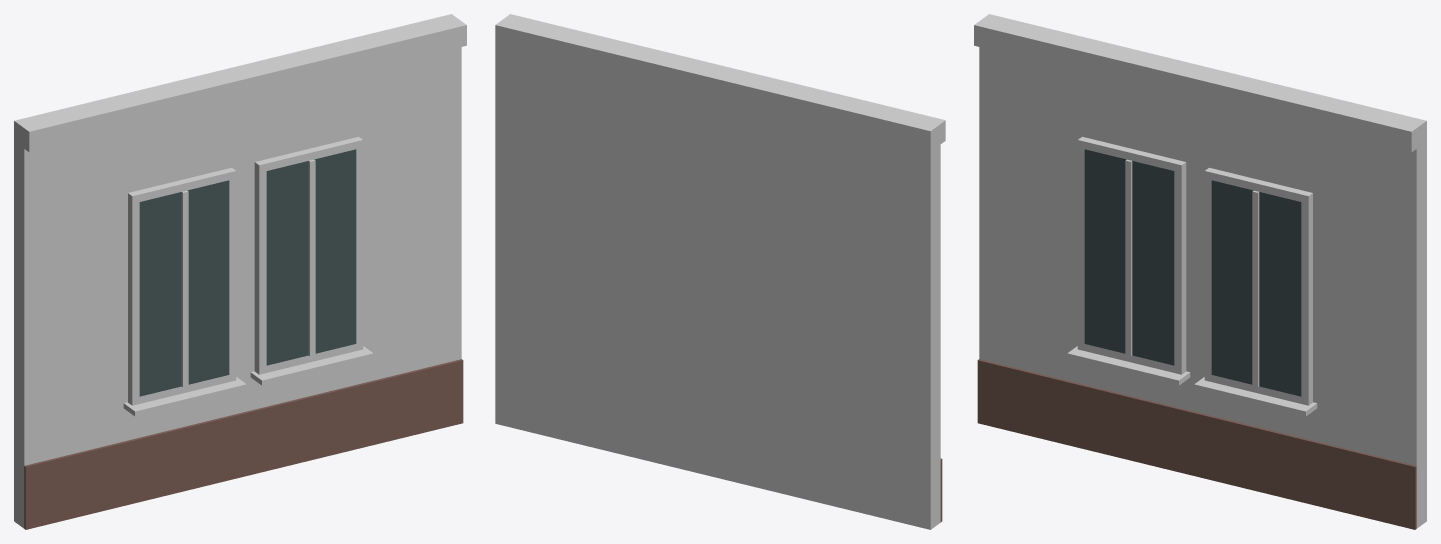
Rendered from mid-w1.fbx.
3 renders of one model, left to right at view 1: azimuth 30°, elevation 25°; view 2: azimuth 150°, elevation 25°; view 3: azimuth 330°, elevation 25°, orthographic.
Parts seen in each view (by area): view 1: a2000/500/mid-w1; view 2: a2000/500/mid-w1; view 3: a2000/500/mid-w1.
Boxes of the visible parts, box(x1,y1,x2,y2) form: a2000/500/mid-w1: box(14, 14, 466, 529); a2000/500/mid-w1: box(495, 14, 945, 529); a2000/500/mid-w1: box(974, 14, 1426, 529).
Bounding box in the file's own units: 4 × 3.5 × 0.34.
